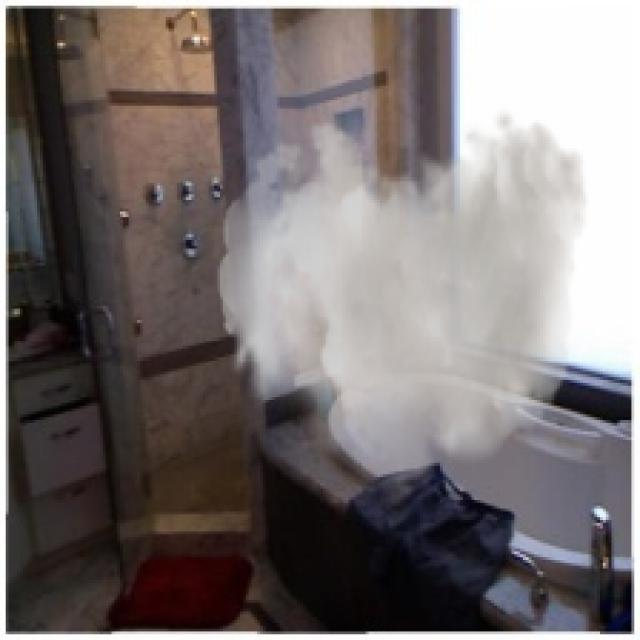smoke: (217, 106, 589, 514)
